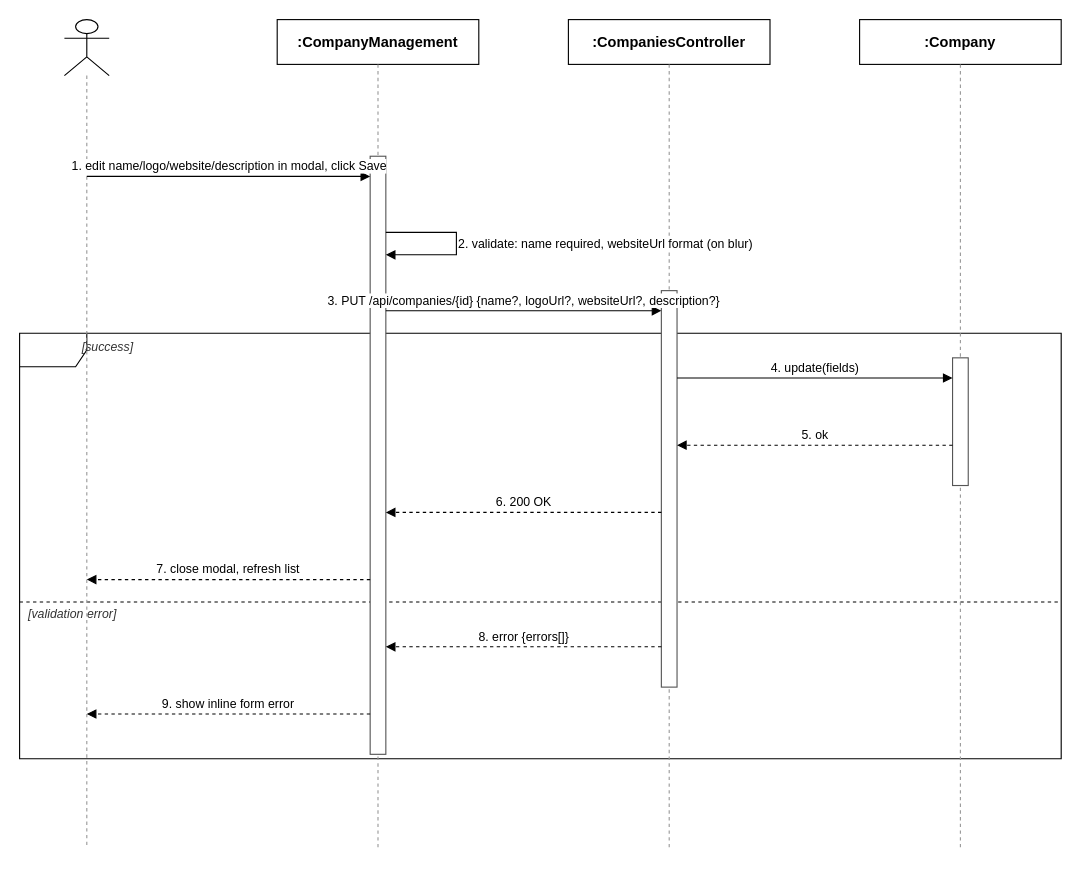
This 1082x869 diagram has some shape labels left out. Each missing label, with the box of its shape:
Administrator: (63, 18, 109, 76)
alt: (18, 332, 1061, 759)
